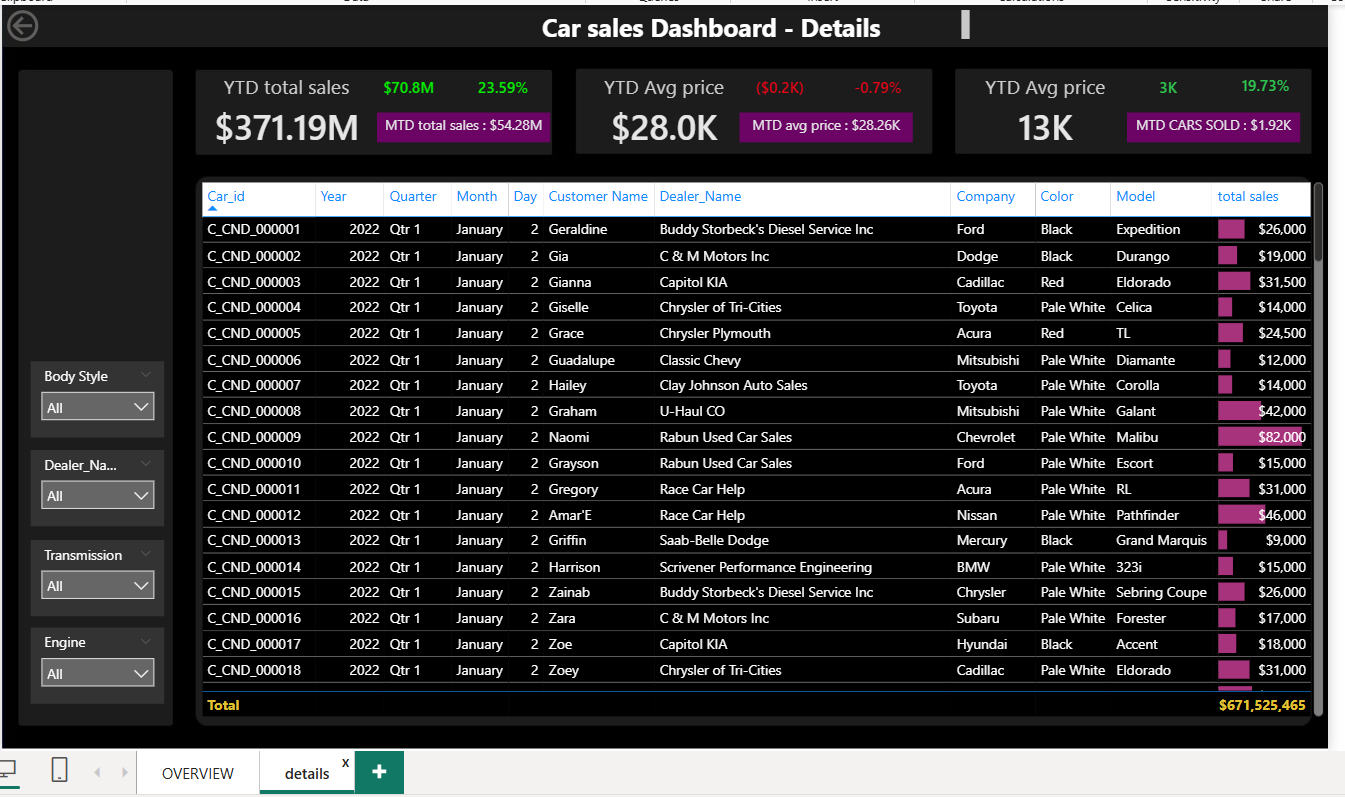

The page's visual inventory and layout, read from the dashboard file:
{"tool":"powerbi","page":{"name":"details","canvas":[1280,720],"ordinal":1},"visuals":[{"type":"card","title":"YTD total sales","fields":{"Values":["car_data.YTD Total sales"]},"box":[186.6,65.9,175.6,78.2],"z":0},{"type":"card","fields":{"Values":["car_data.SALES DIFFERENCE"]},"box":[347.2,65.9,90.6,31.6],"z":1000},{"type":"card","fields":{"Values":["car_data.YoY Sales grow"]},"box":[437.7,65.9,91.9,31.6],"z":2000},{"type":"card","fields":{"Values":["car_data.MTD KPI"]},"box":[362.3,104.3,167.4,28.8],"z":3000},{"type":"card","title":"YTD Avg price","fields":{"Values":["car_data.YTD Avr Price"]},"box":[551.6,65.9,175.6,78.2],"z":4000},{"type":"card","fields":{"Values":["car_data.Avg price diferenc"]},"box":[705.3,65.9,90.6,31.6],"z":5000},{"type":"card","fields":{"Values":["car_data.YoY avg price growth"]},"box":[795.9,65.9,98.8,31.6],"z":6000},{"type":"card","fields":{"Values":["car_data.MTD avg price KPI"]},"box":[712.2,104.3,167.4,28.8],"z":7000},{"type":"card","title":"YTD Avg price","fields":{"Values":["car_data.YTD cars sold"]},"box":[919.4,65.9,175.6,78.2],"z":8000},{"type":"card","fields":{"Values":["car_data.CARS SOLD DIFF"]},"box":[1064.8,65.9,120.8,31.6],"z":9000},{"type":"card","fields":{"Values":["car_data.YOY CARS SOLD GROWTH"]},"box":[1159.5,64.5,120.8,31.6],"z":10000},{"type":"card","fields":{"Values":["car_data.MTD CARS SOLD KPI"]},"box":[1085.4,104.3,167.4,28.8],"z":11000},{"type":"actionButton","box":[0,0,100,40],"z":12000},{"type":"textbox","box":[437.9,0,500.7,39.8],"z":13000},{"type":"slicer","fields":{"Values":["car_data.Dealer_Name"]},"box":[27.7,429.5,129.1,73.6],"z":14000},{"type":"slicer","fields":{"Values":["car_data.Body Style"]},"box":[27.7,343.8,129.1,73.6],"z":15000},{"type":"slicer","fields":{"Values":["car_data.Transmission"]},"box":[27.7,516.4,129.1,73.6],"z":16000},{"type":"slicer","fields":{"Values":["car_data.Engine"]},"box":[27.7,600.8,129.1,73.6],"z":17000},{"type":"tableEx","fields":{"Values":["car_data.Car_id","Calendar tabele.Date.Variation.Date Hierarchy.Year","Calendar tabele.Date.Variation.Date Hierarchy.Quarter","Calendar tabele.Date.Variation.Date Hierarchy.Month","Calendar tabele.Date.Variation.Date Hierarchy.Day","car_data.Customer Name","car_data.Dealer_Name","car_data.Company","car_data.Color","car_data.Model","Sum(car_data.Price ($))"]},"box":[187,166.5,1093,524.8],"z":17001}]}

Visuals, with their boxes on the page's 1280x720 design canvas (x1, y1, x2, y2). These are canvas units, not pixel positions in the 1345x797 screenshot, which may show the page scaled, cropped or inside an application window:
"YTD total sales" card: 187 66 362 144
card - car_data.SALES DIFFERENCE: 347 66 438 98
card - car_data.YoY Sales grow: 438 66 530 98
card - car_data.MTD KPI: 362 104 530 133
"YTD Avg price" card: 552 66 727 144
card - car_data.Avg price diferenc: 705 66 796 98
card - car_data.YoY avg price growth: 796 66 895 98
card - car_data.MTD avg price KPI: 712 104 880 133
"YTD Avg price" card: 919 66 1095 144
card - car_data.CARS SOLD DIFF: 1065 66 1186 98
card - car_data.YOY CARS SOLD GROWTH: 1160 64 1280 96
card - car_data.MTD CARS SOLD KPI: 1085 104 1253 133
actionButton: 0 0 100 40
textbox: 438 0 939 40
slicer - car_data.Dealer_Name: 28 430 157 503
slicer - car_data.Body Style: 28 344 157 417
slicer - car_data.Transmission: 28 516 157 590
slicer - car_data.Engine: 28 601 157 674
tableEx - car_data.Car_id x Calendar tabele.Date.Variation.Date Hierarchy.Year: 187 166 1280 691
